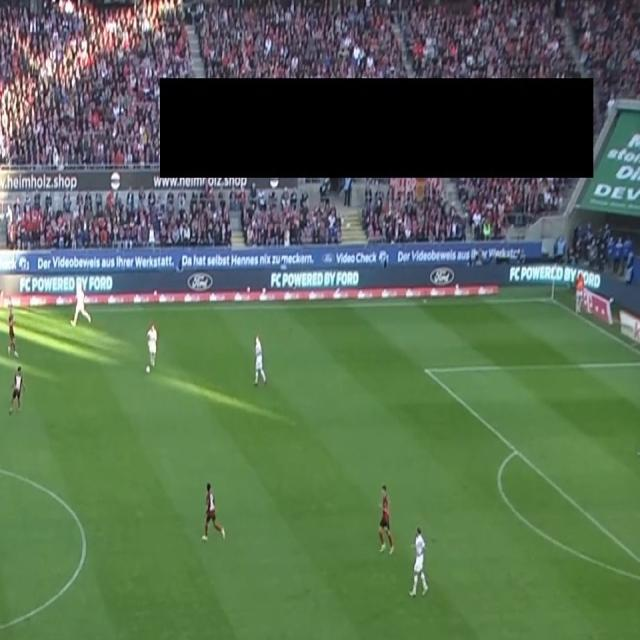ball: (145, 364, 151, 374)
